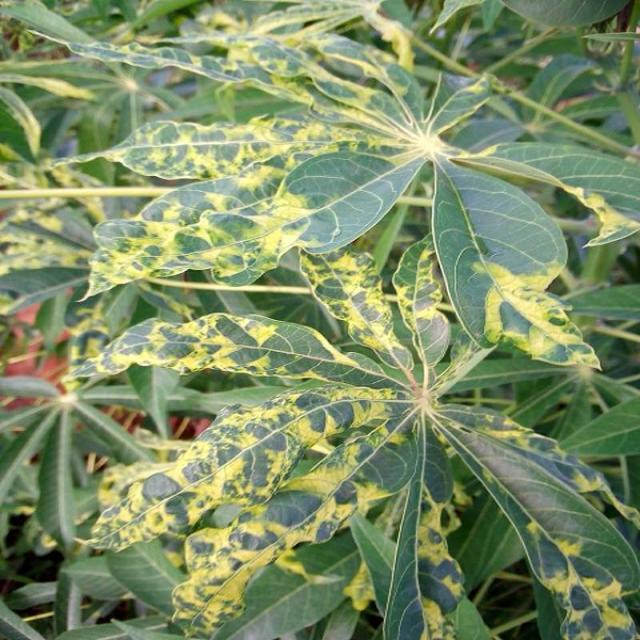cassava leaf: (6, 1, 640, 638)
